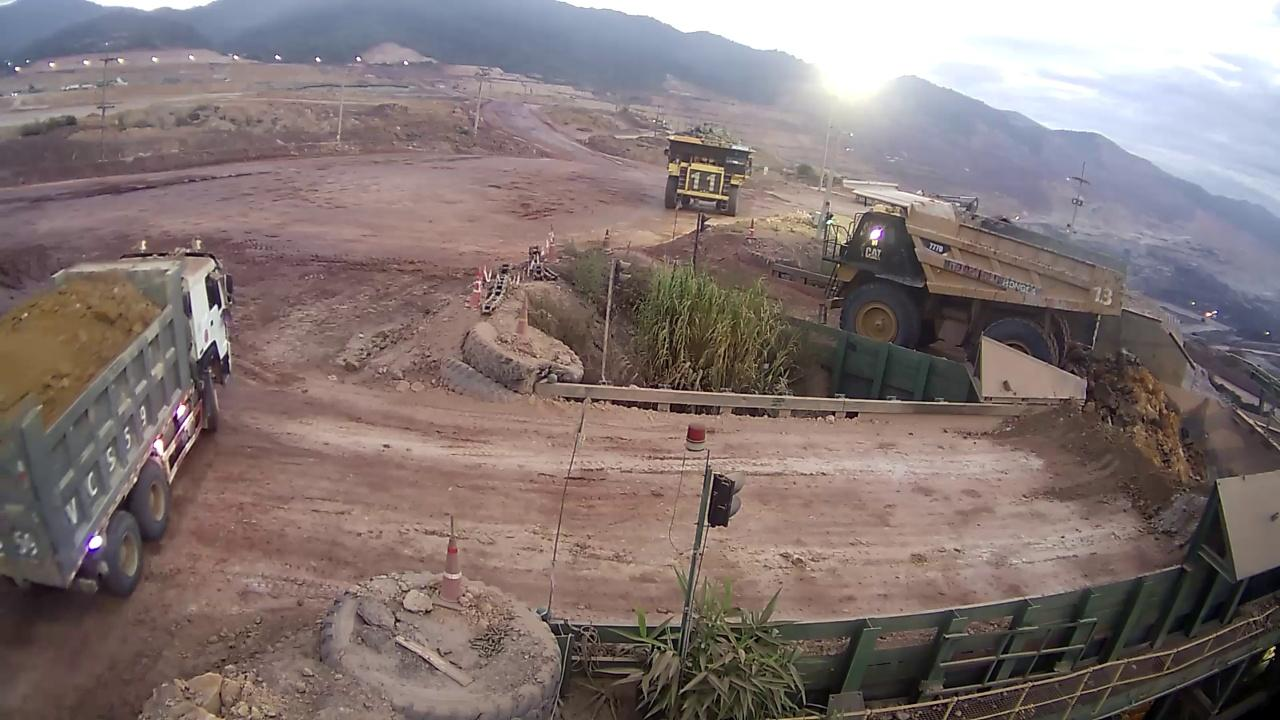front_number: (684, 160, 722, 194)
mining_truck: (811, 167, 1134, 382), (659, 124, 752, 221)
tail_number: (1086, 276, 1124, 313)
